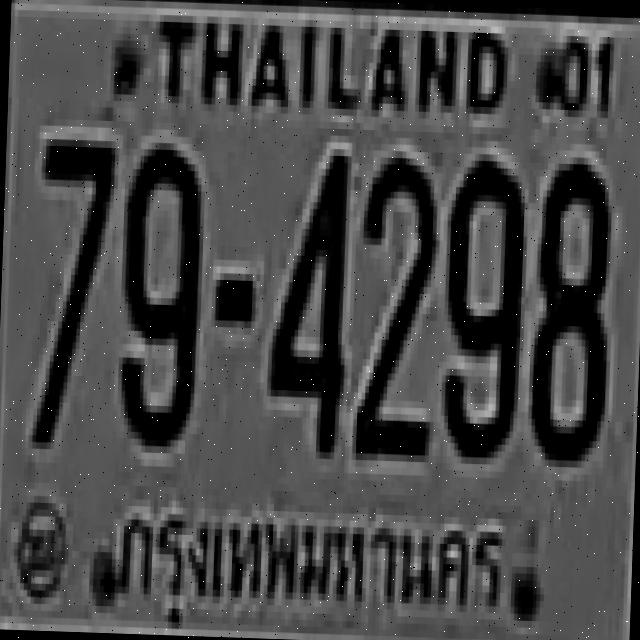2: (352, 150, 434, 455)
4: (265, 144, 348, 448)
7: (32, 132, 112, 444)
8: (526, 156, 610, 454)
9: (116, 135, 202, 440), (439, 152, 522, 452)
Bangkok: (105, 490, 518, 640)
